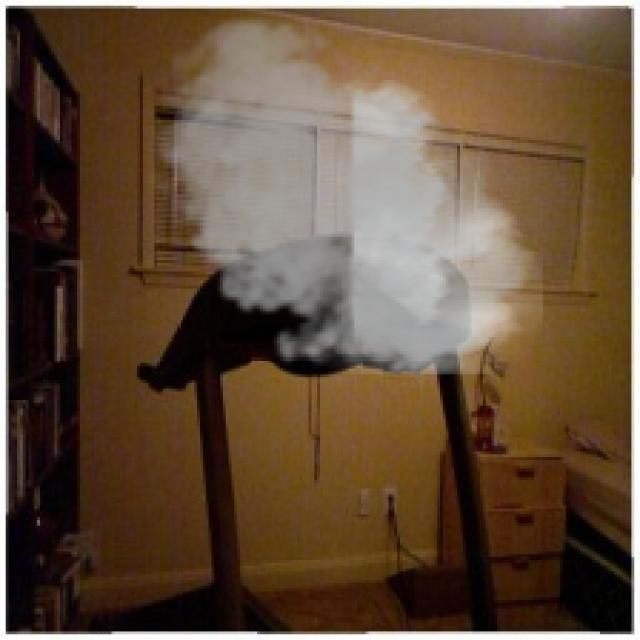smoke: (140, 9, 543, 388)
